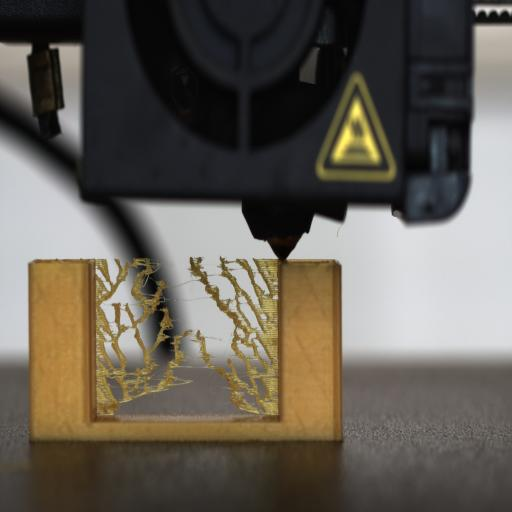stringing: (96, 256, 278, 414)
